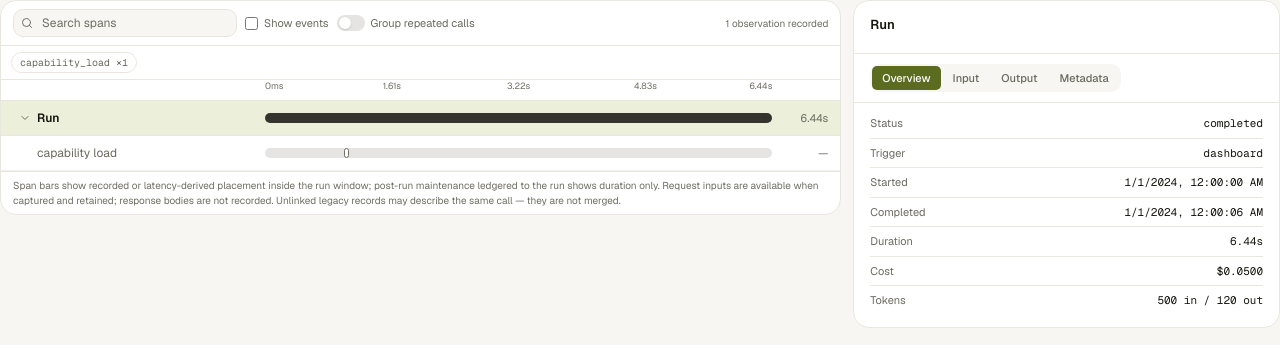
Test case: RunTimeline — corrections › capability_load Output shows the backend 'capabilities' key
Click the list item with test id "trace-row-cl" at (421, 154), box [1,136,840,171]
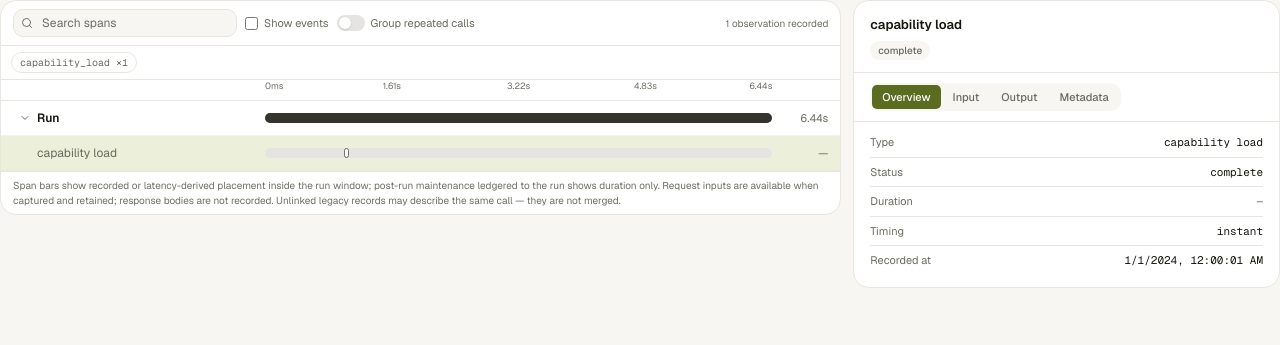
Click the button "Output" at (1019, 97), box [991,84,1048,109]
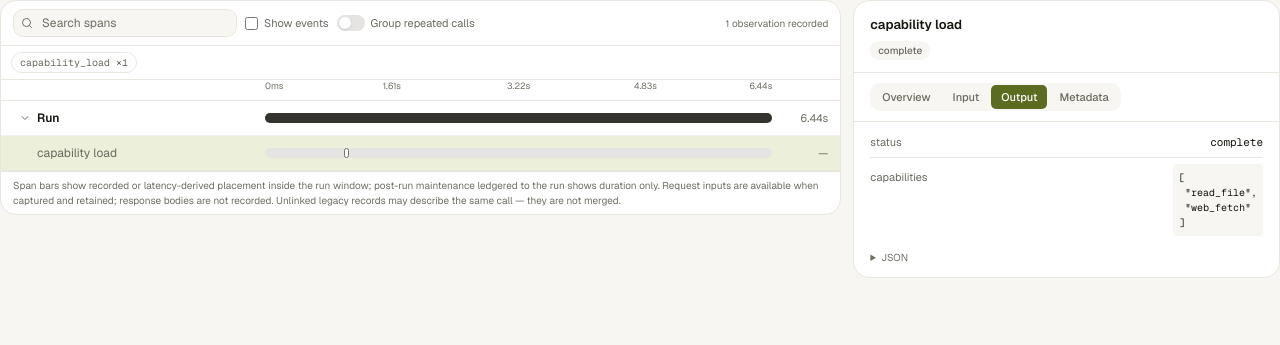
Result: the text "[ \"read_file\", \"web_fetch\" ]" is shown at [1173,164,1263,236]
